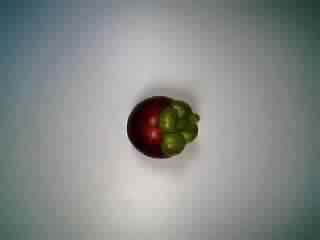mangosteen: (122, 88, 205, 163)
